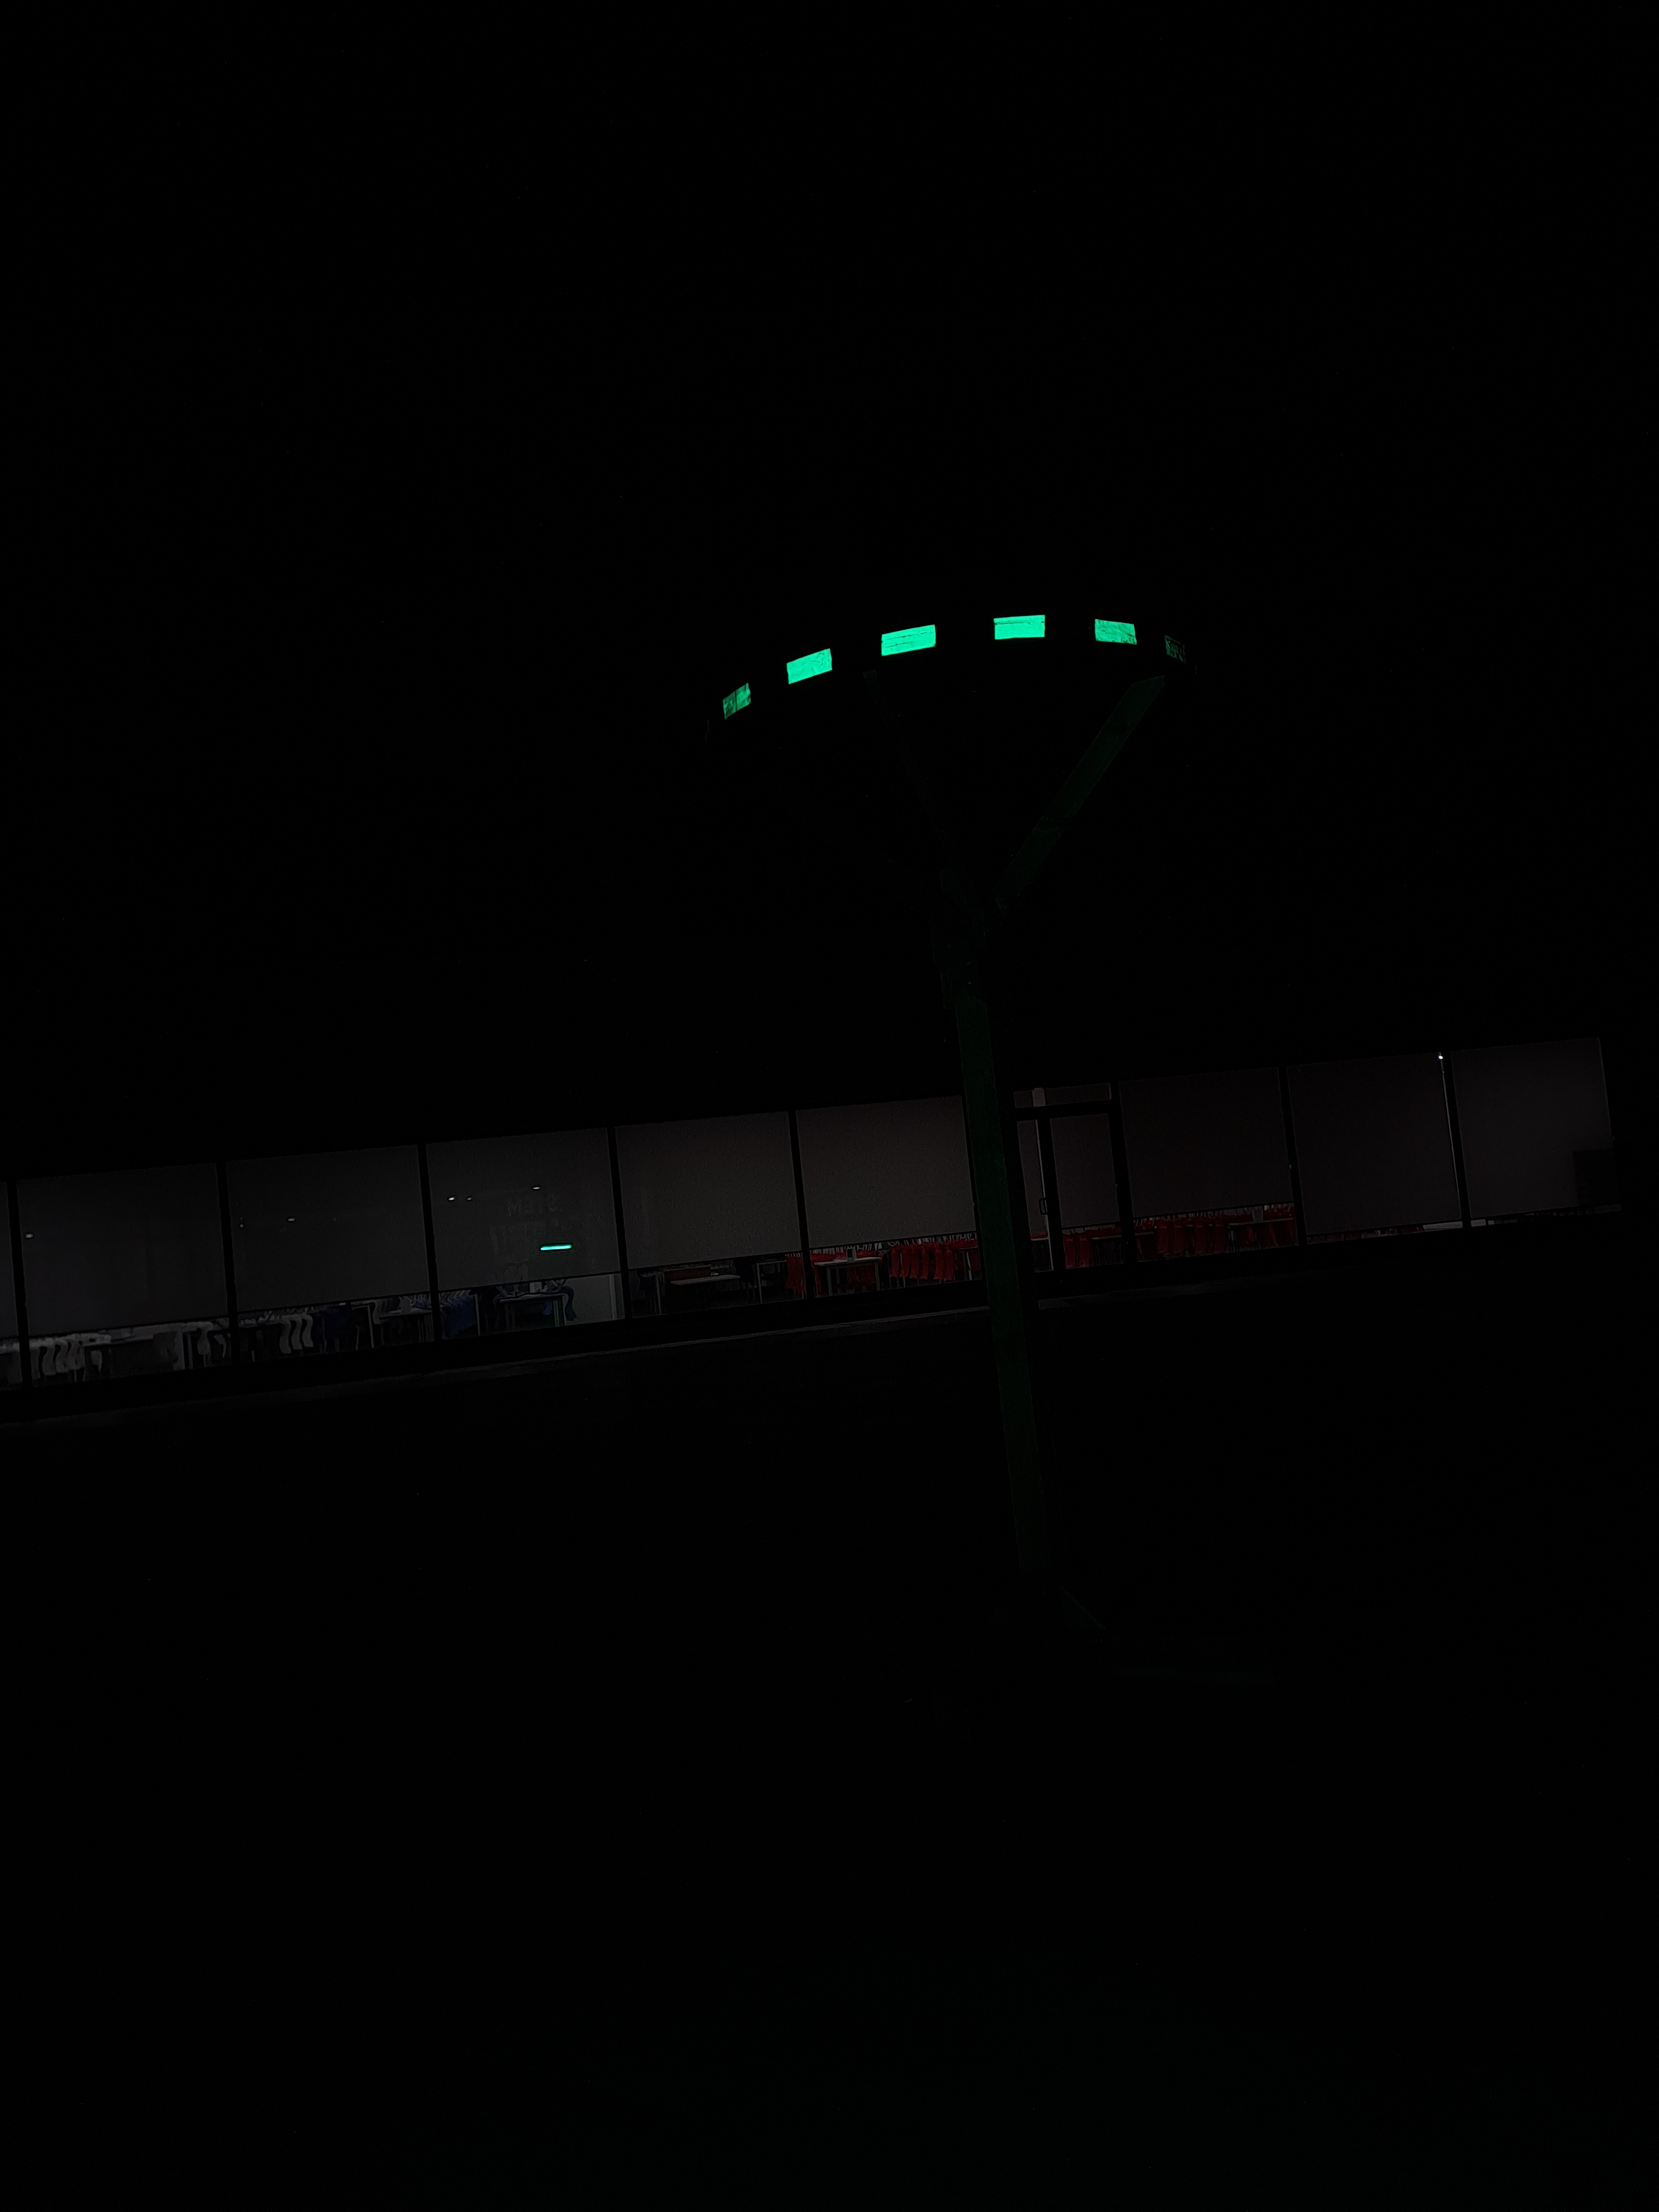hoop: (718, 610, 1145, 723)
